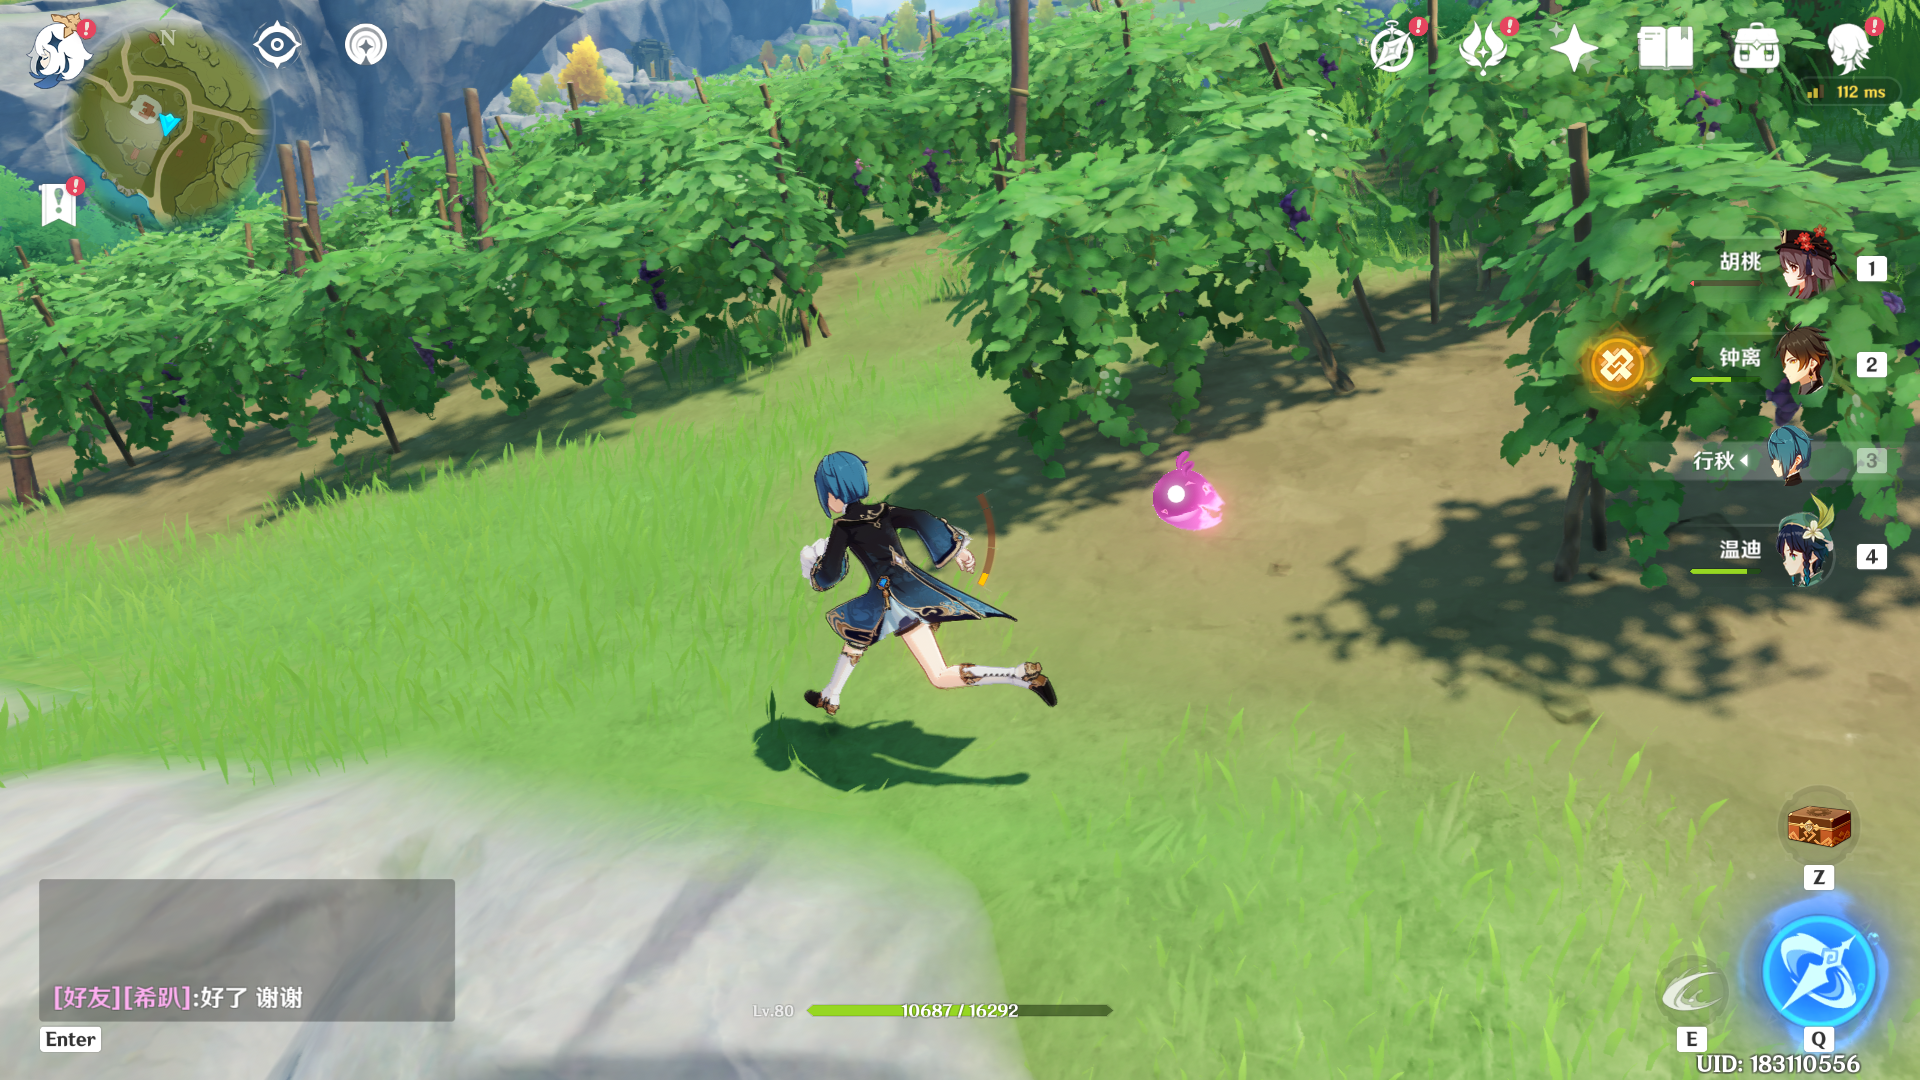character: (752, 425, 1068, 800)
